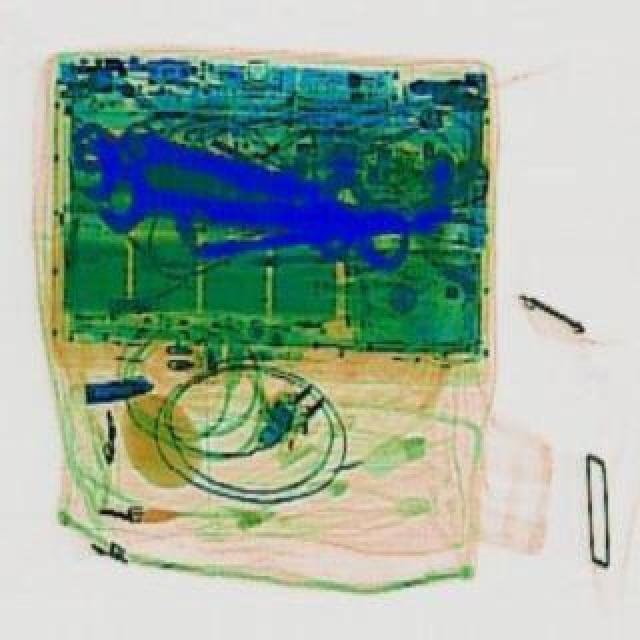scissors: (92, 170, 414, 290)
